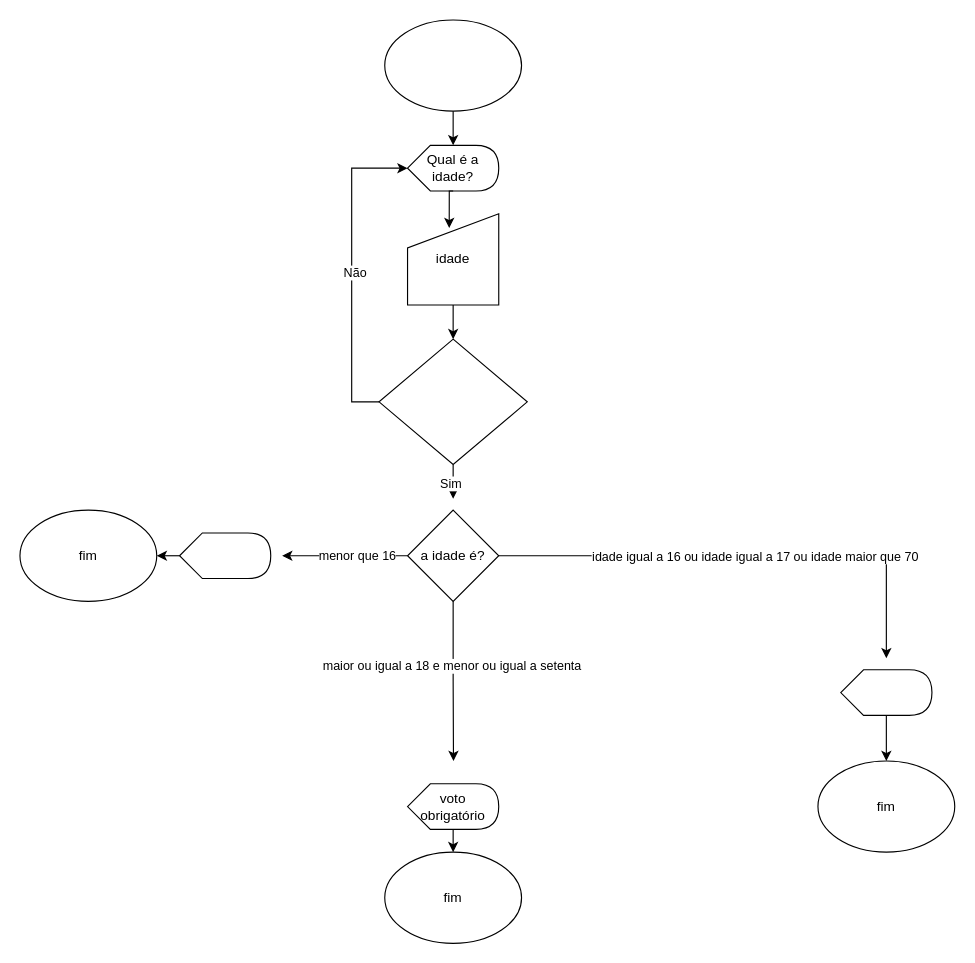
The diagram is 975 pixels wide and 963 high, and some of its shapes have lost their labels. Each missing label, with the centre of its shape:
"idade é um valor?" belongs at point 452,401.
"inicio" belongs at point 453,65.
"voto facultativo" belongs at point 886,692.
"voto proibido" belongs at point 224,555.
